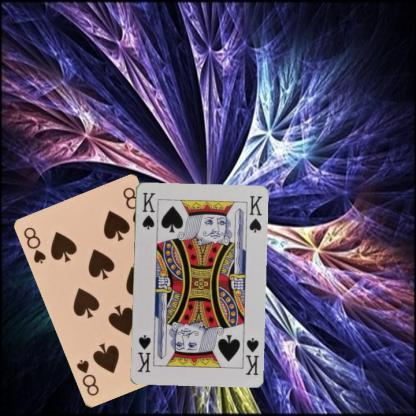8s: (21, 224, 48, 265)
Ks: (242, 334, 260, 376), (139, 190, 156, 230)
